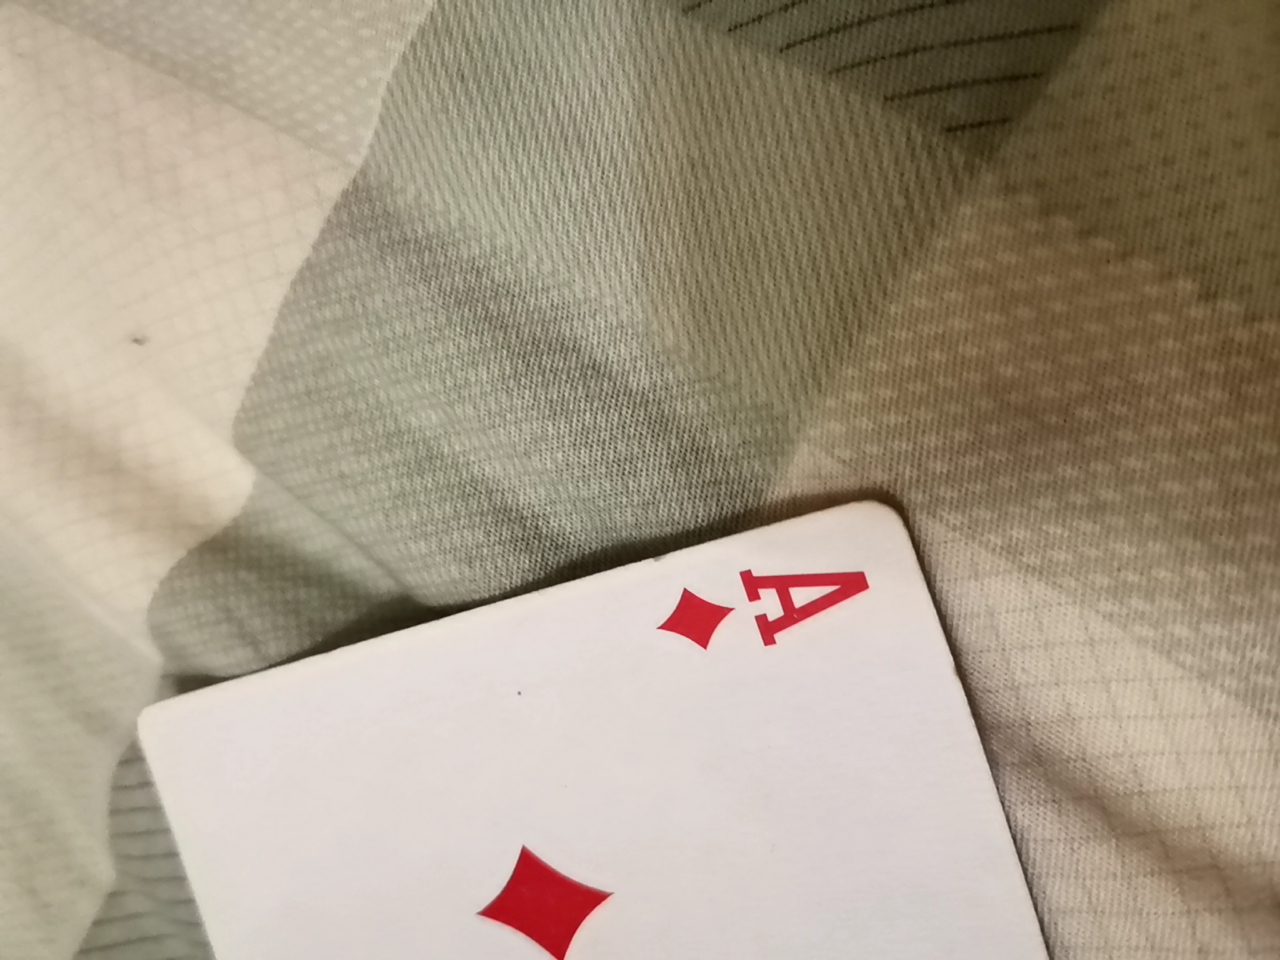fk a: (116, 527, 1089, 945)
